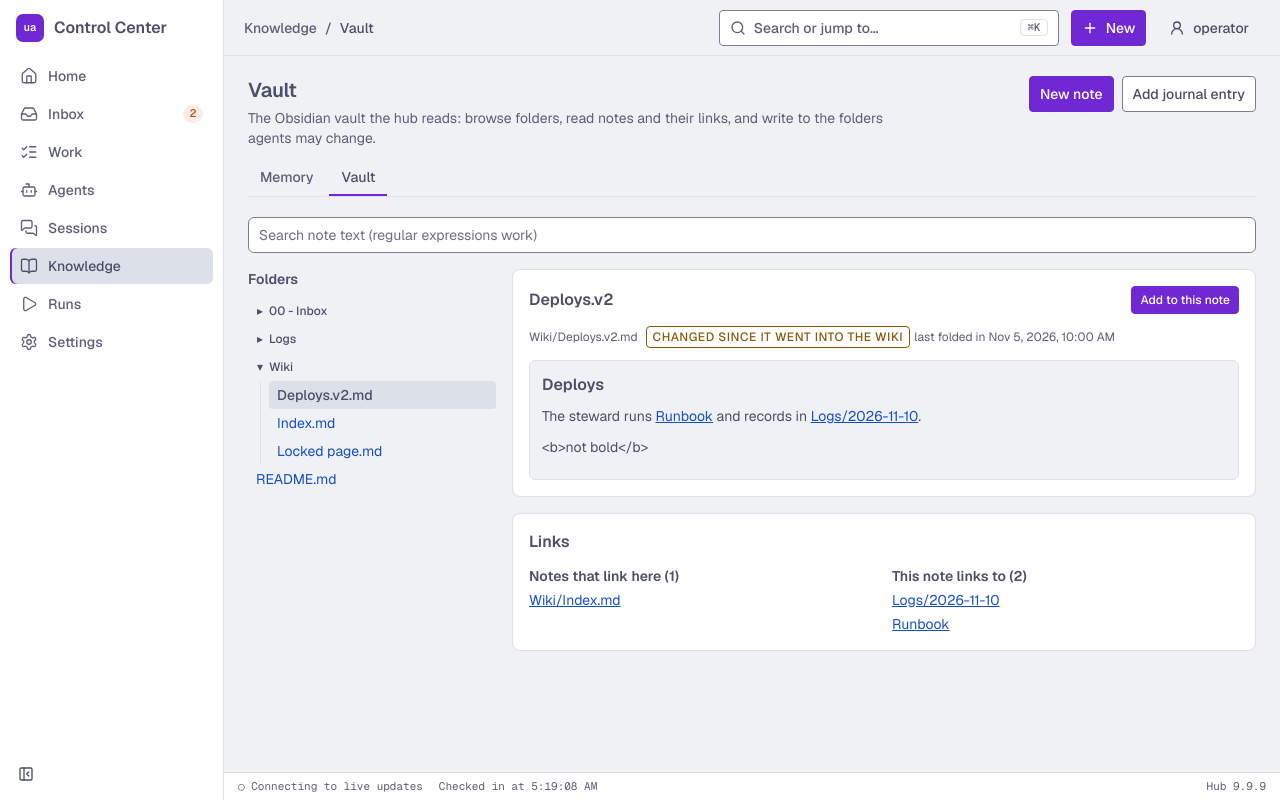
Test: knowledge: vault browsing › reads a note with Markdown, wikilinks that navigate in the app, backlinks and ingest status
Expected: the heading "Deploys" is shown, [542,374,604,395]
Expected: the text "<b>not bold</b>" is shown, [542,438,648,456]
Click the link "Runbook" next to "The steward runs".
click(684, 416)  # box [656,407,713,425]
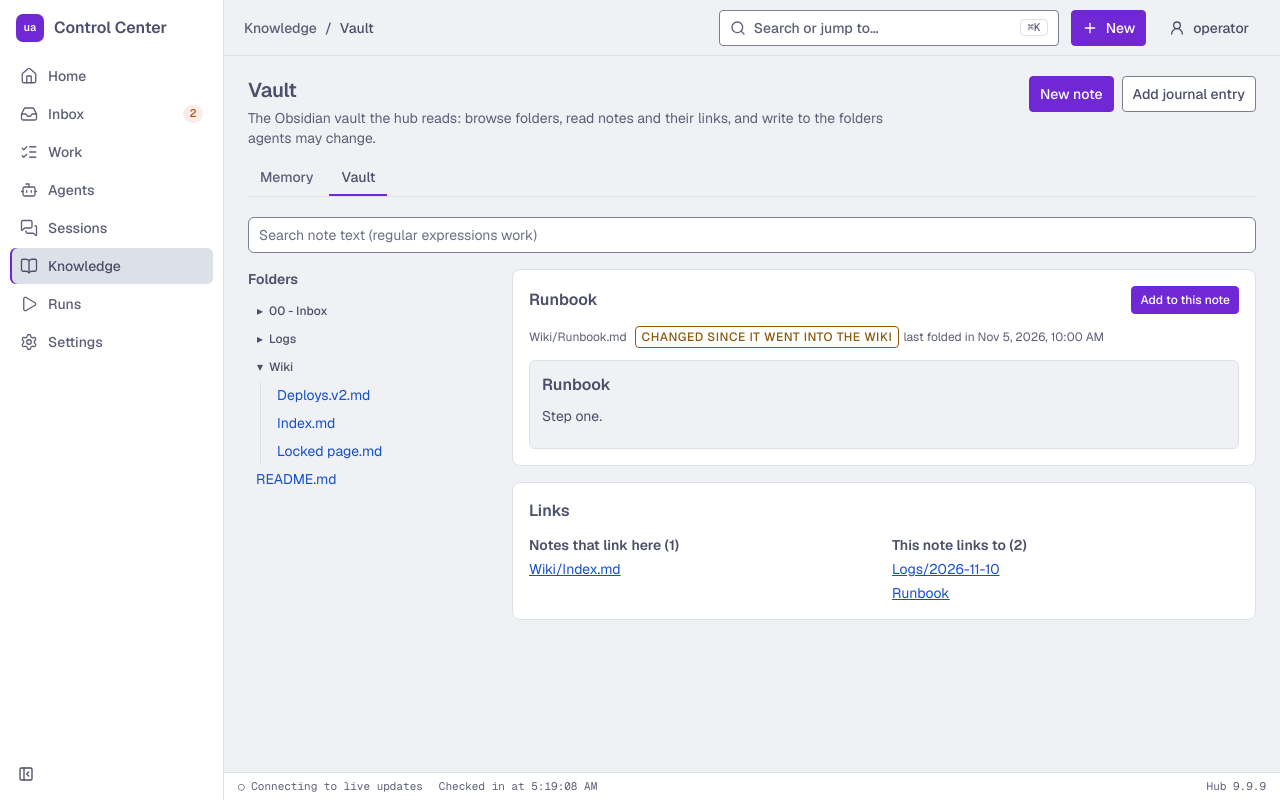
Now the heading "Runbook" next to "Add to this note" is shown, box [529,289,598,310]
